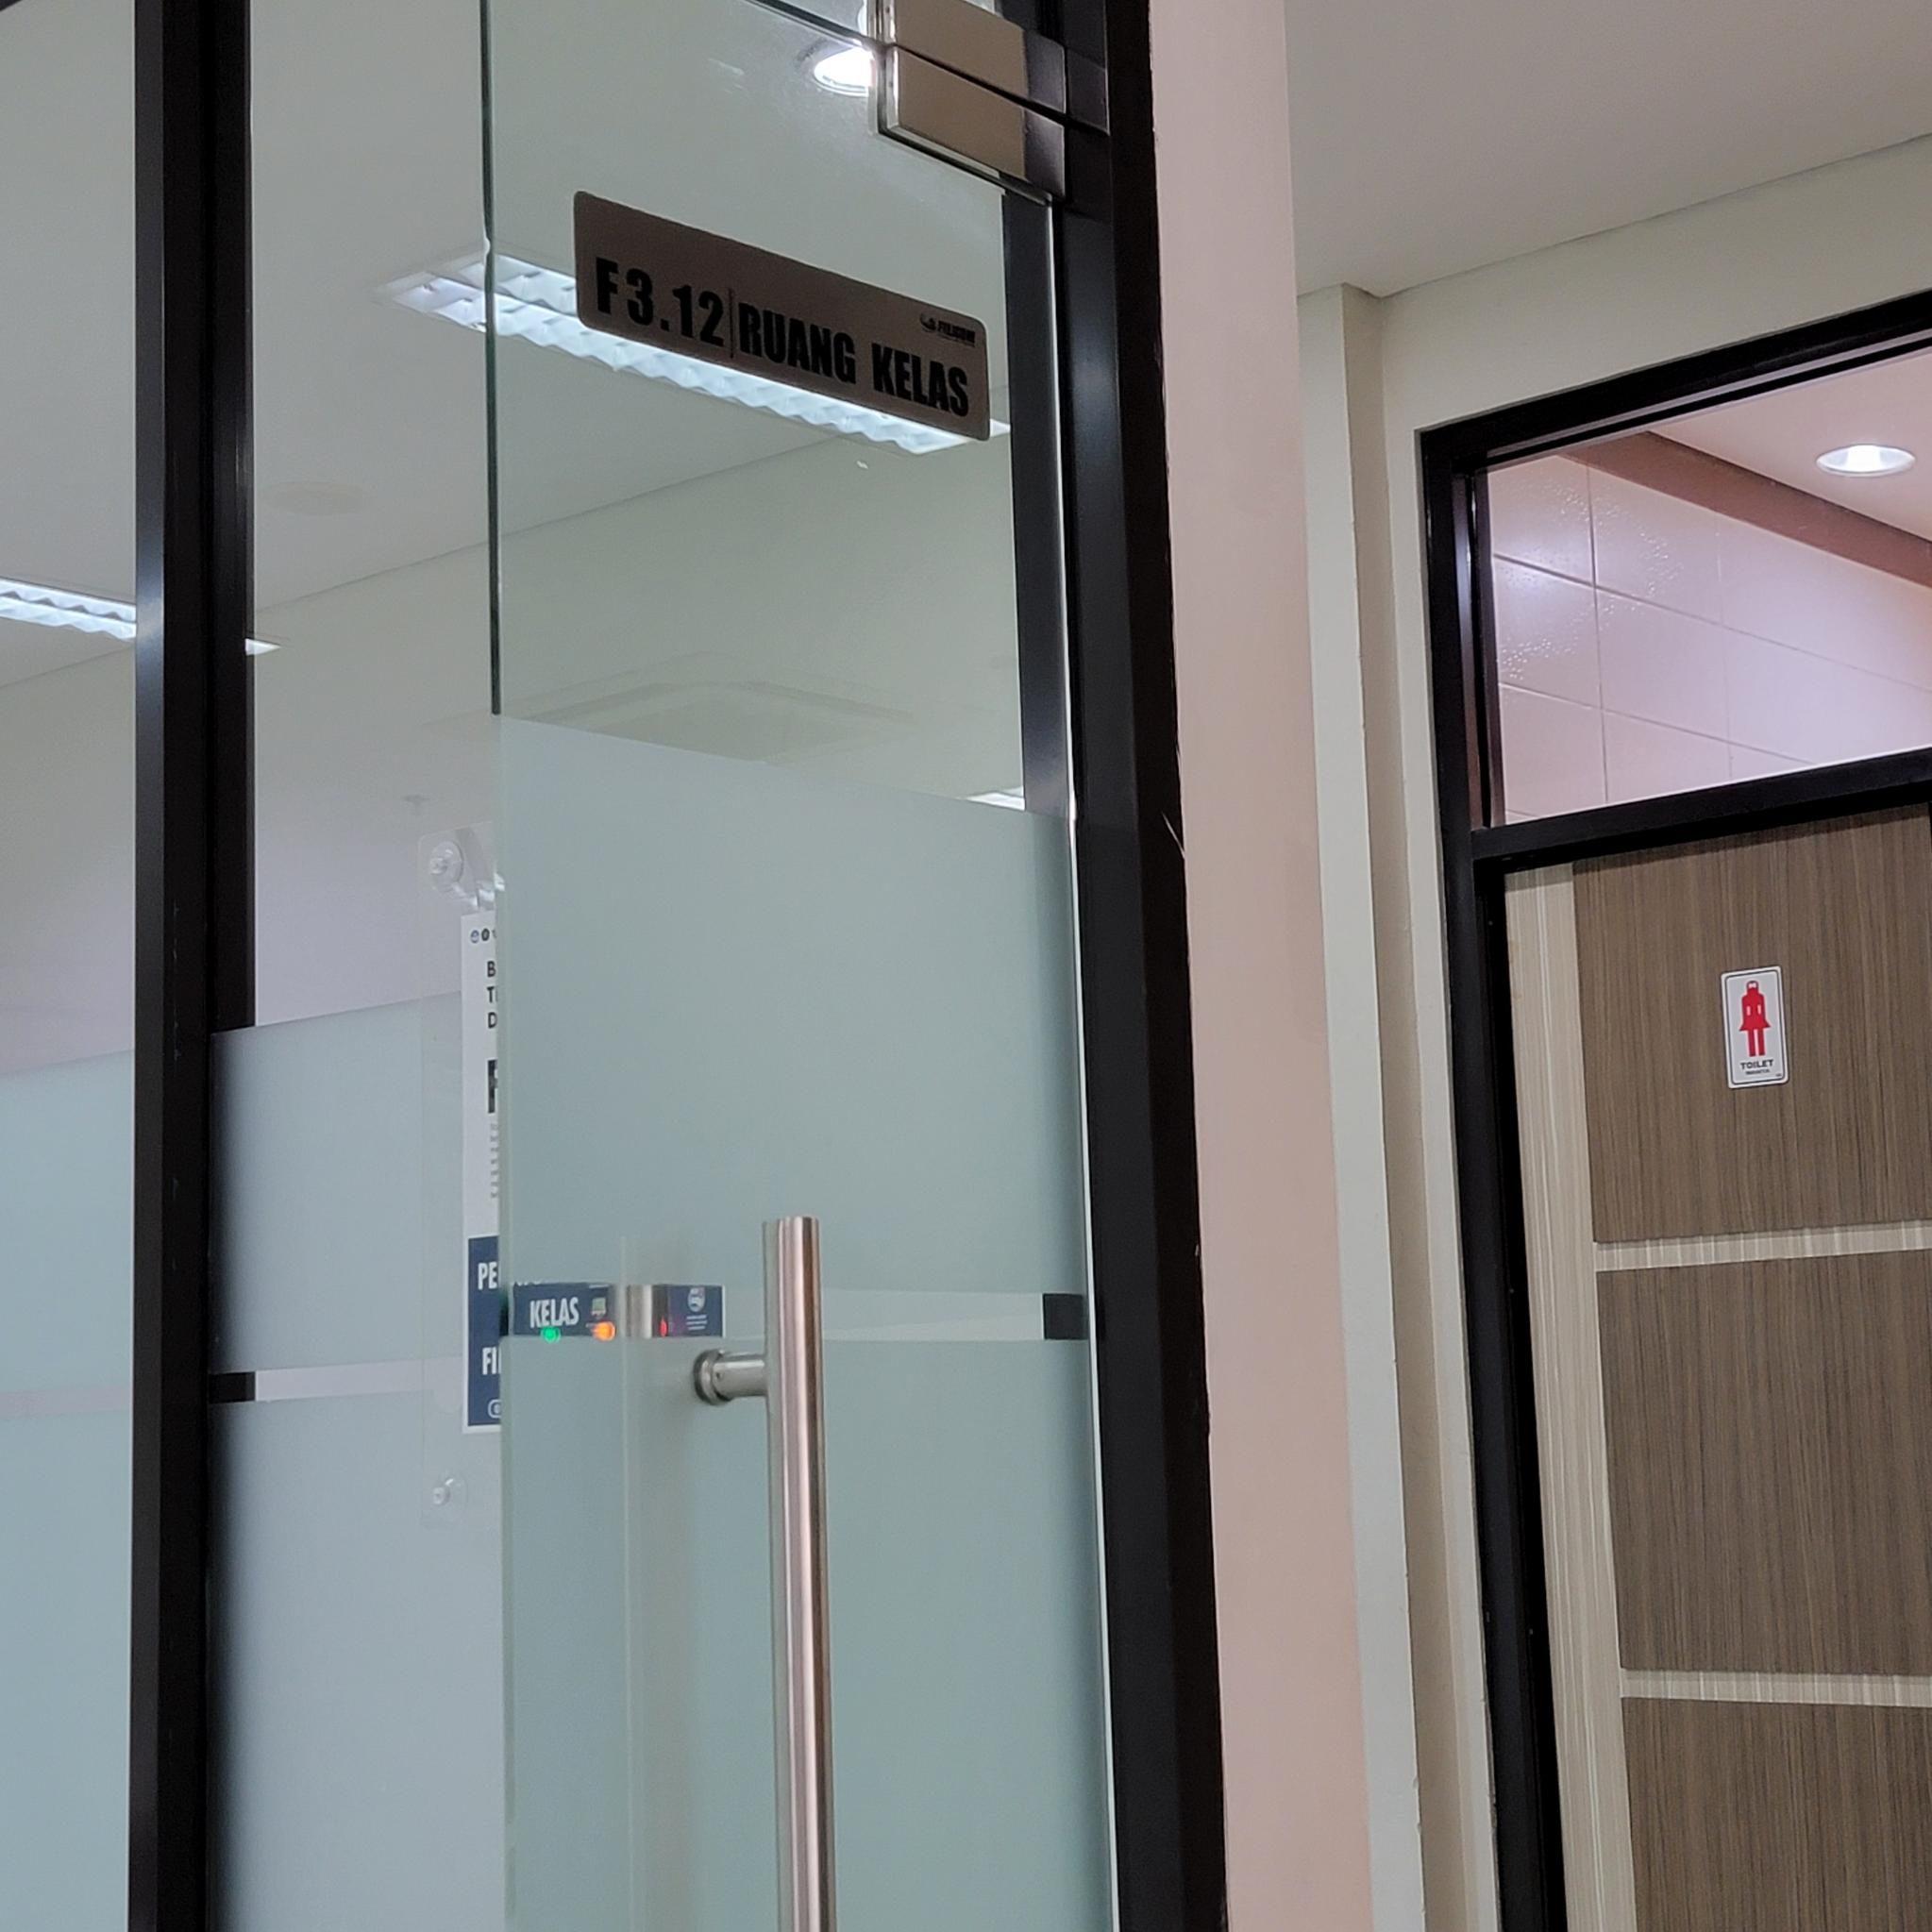plate: (575, 186, 993, 448)
